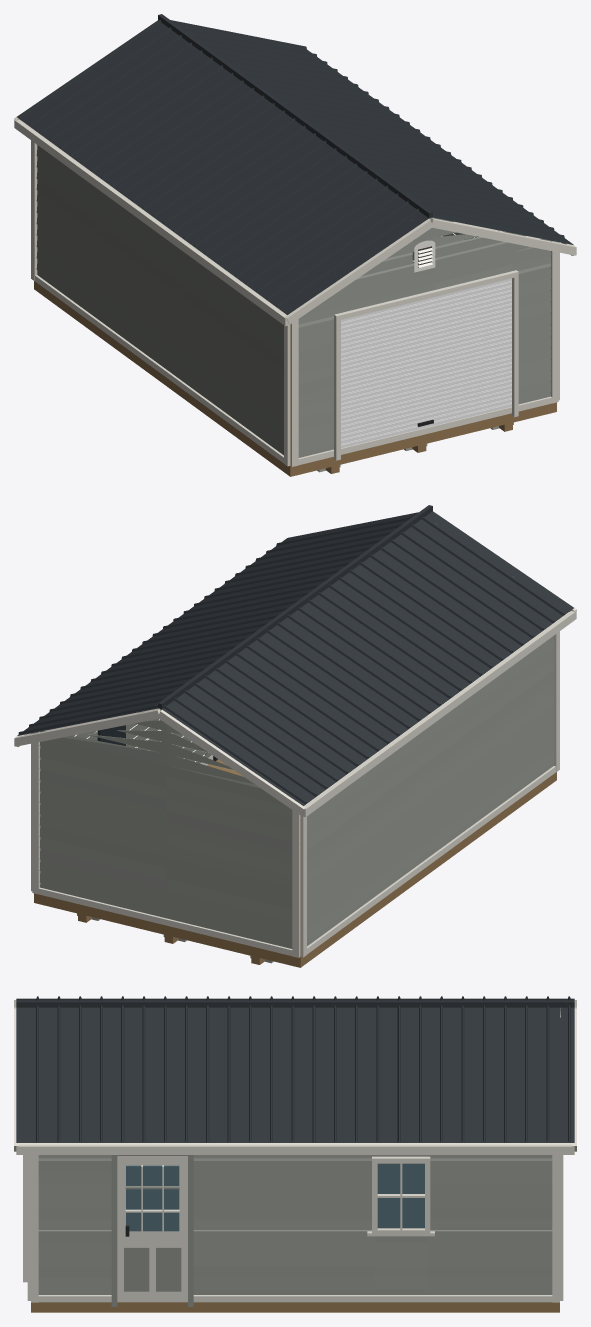
File: 11-garage-package.glb
3 renders of one model, top to bottom at view 1: azimuth 30°, elevation 25°; view 2: azimuth 150°, elevation 25°; view 3: azimuth 270°, elevation 25°, orthographic. The views are drawn at different scales.
Visible parts, largest first — view 1: Main roof, left wall, front wall roll, front wall, Floor platform and skids, front wall vent; view 2: Main roof, rear wall, left wall, Floor platform and skids, right wall; view 3: Main roof, right wall, right wall entry, Floor platform and skids, right wall window, front wall roll, rear wall, front wall.
Part boxes in pixels (<box>): Main roof: <box>14,14,576,326</box>; left wall: <box>31,140,290,466</box>; front wall roll: <box>334,270,518,460</box>; front wall: <box>290,217,558,466</box>; Floor platform and skids: <box>34,281,556,476</box>; front wall vent: <box>414,240,435,272</box>; Main roof: <box>14,505,576,817</box>; rear wall: <box>32,704,300,957</box>; left wall: <box>300,631,559,957</box>; Floor platform and skids: <box>34,759,556,967</box>; right wall: <box>31,718,212,891</box>; Main roof: <box>14,996,576,1154</box>; right wall: <box>31,1155,559,1302</box>; right wall entry: <box>111,1155,193,1306</box>; Floor platform and skids: <box>31,1302,559,1312</box>; right wall window: <box>367,1156,434,1236</box>; front wall roll: <box>23,1155,27,1282</box>; rear wall: <box>560,1008,563,1300</box>; front wall: <box>27,1155,30,1300</box>.
Size of the model in its own units: 4 by 3.23 by 6.49.
